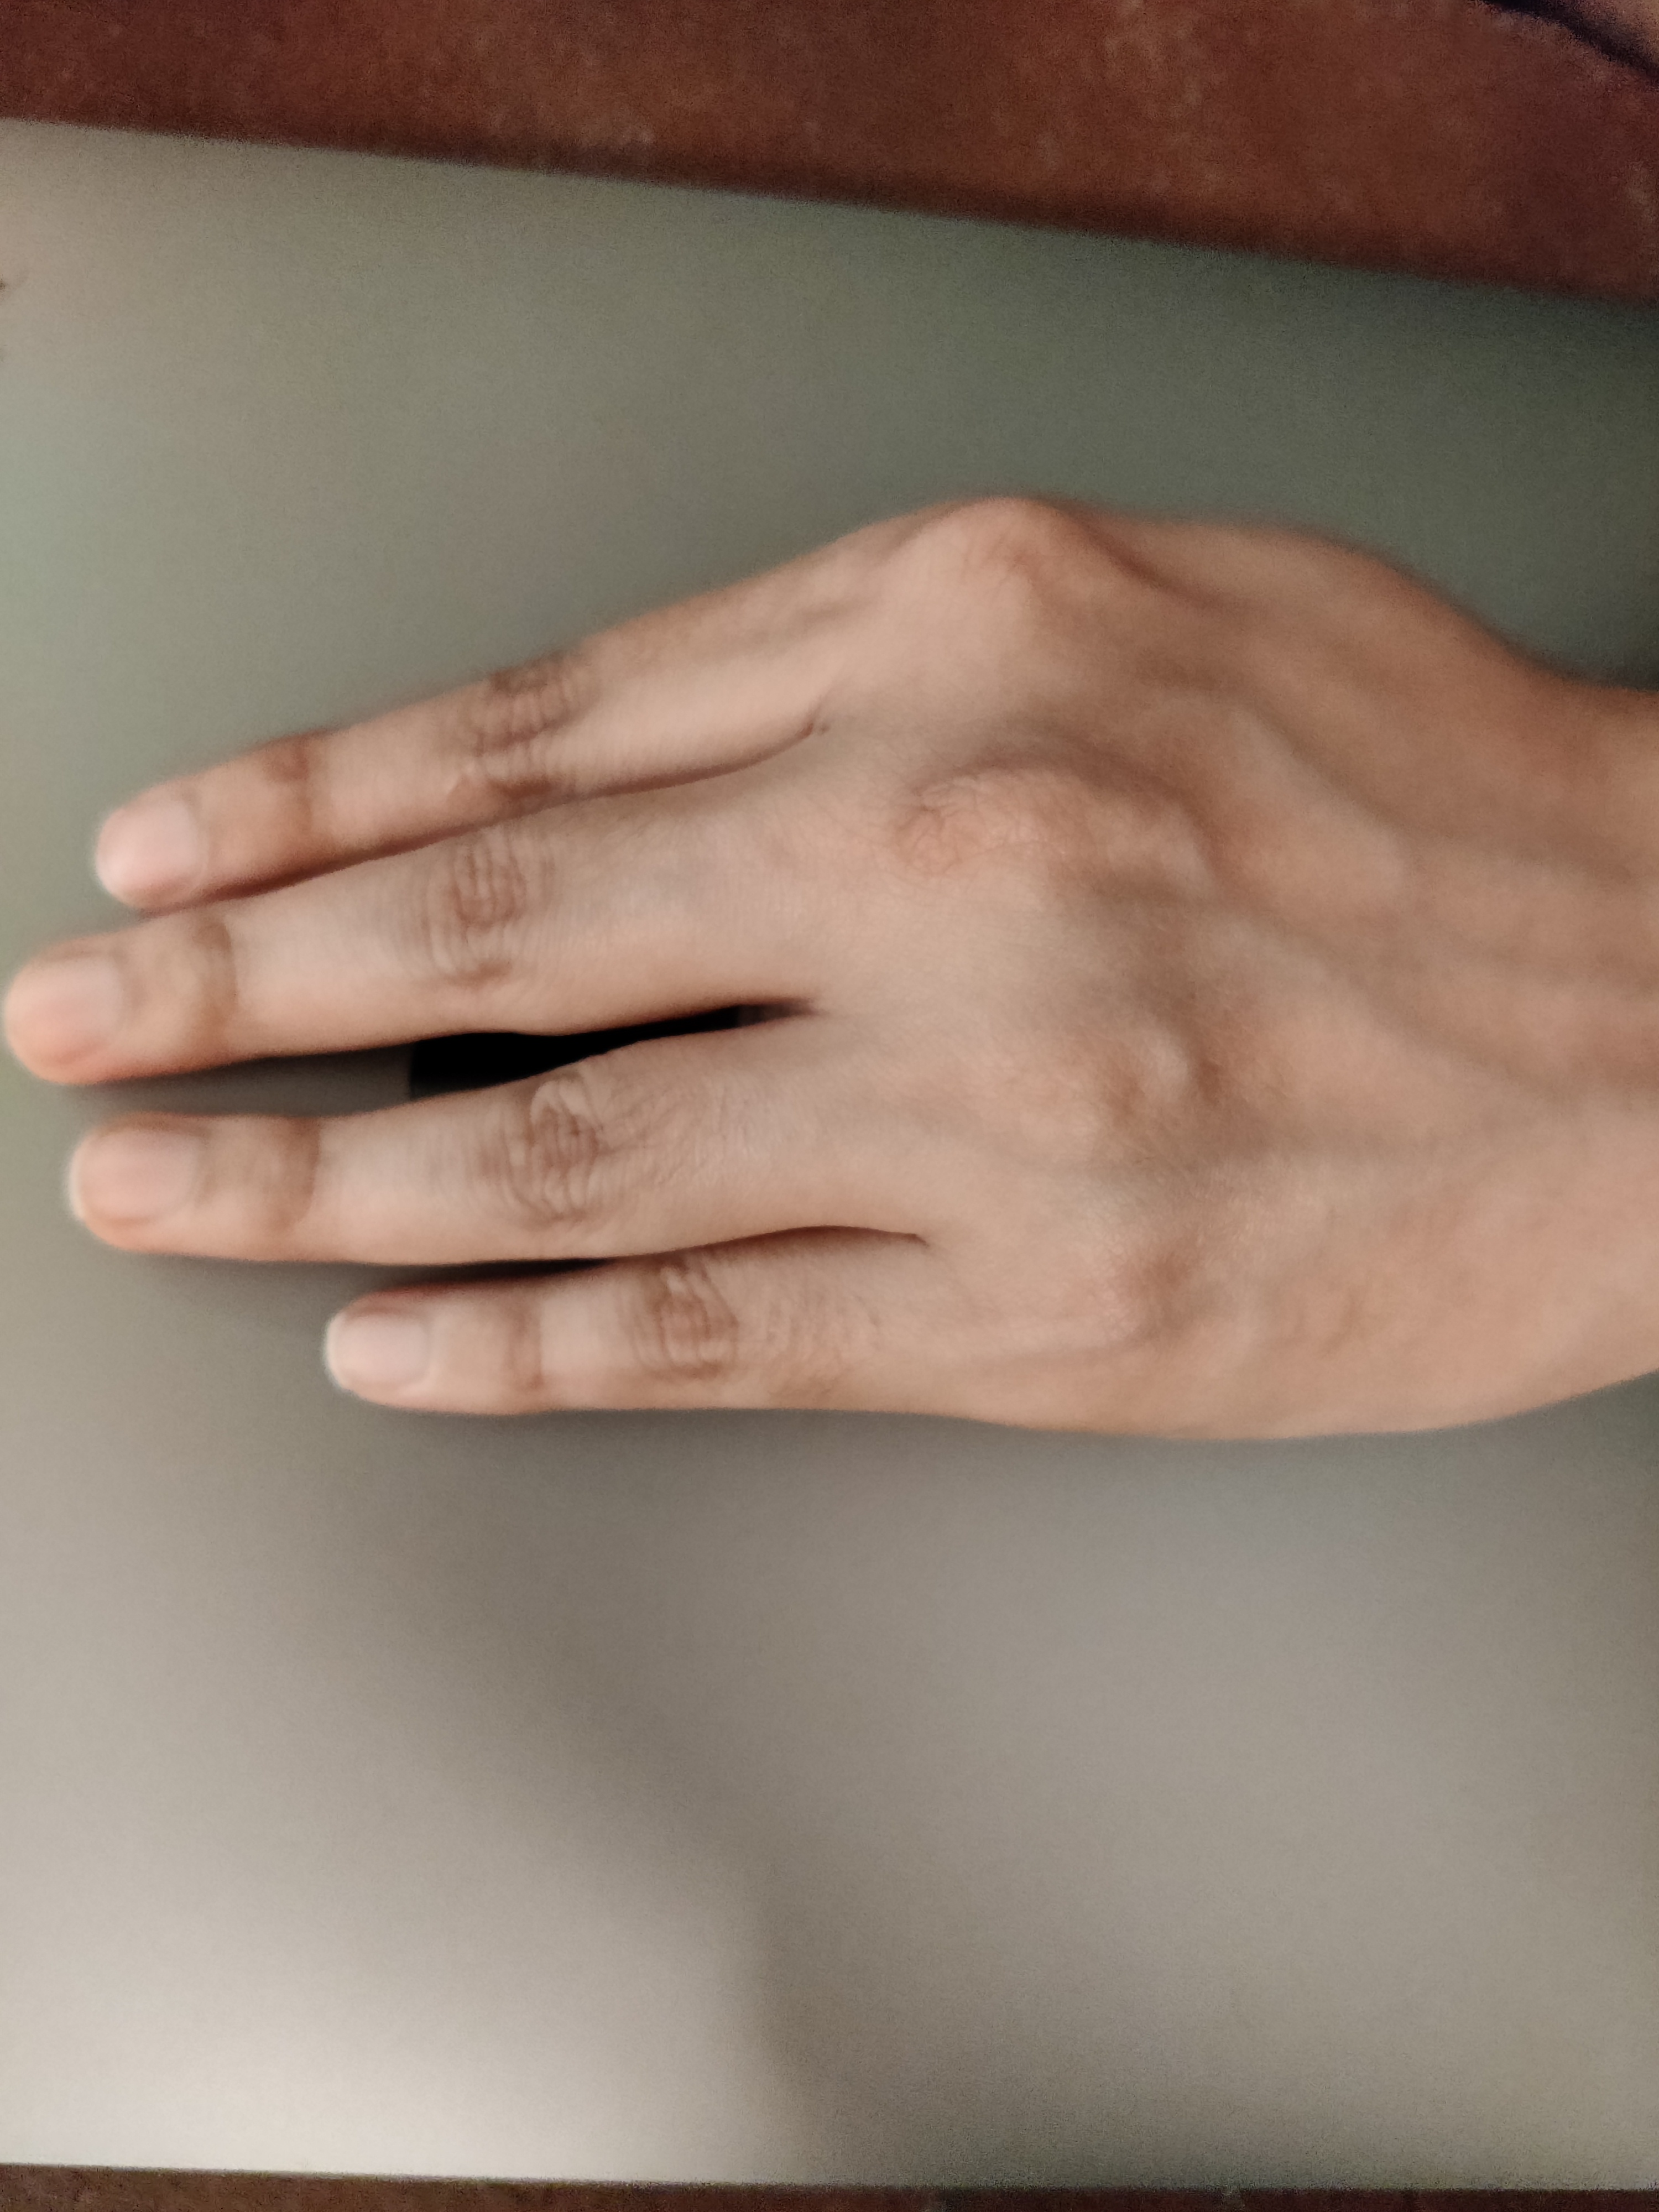right: (16, 287, 1649, 1562)
